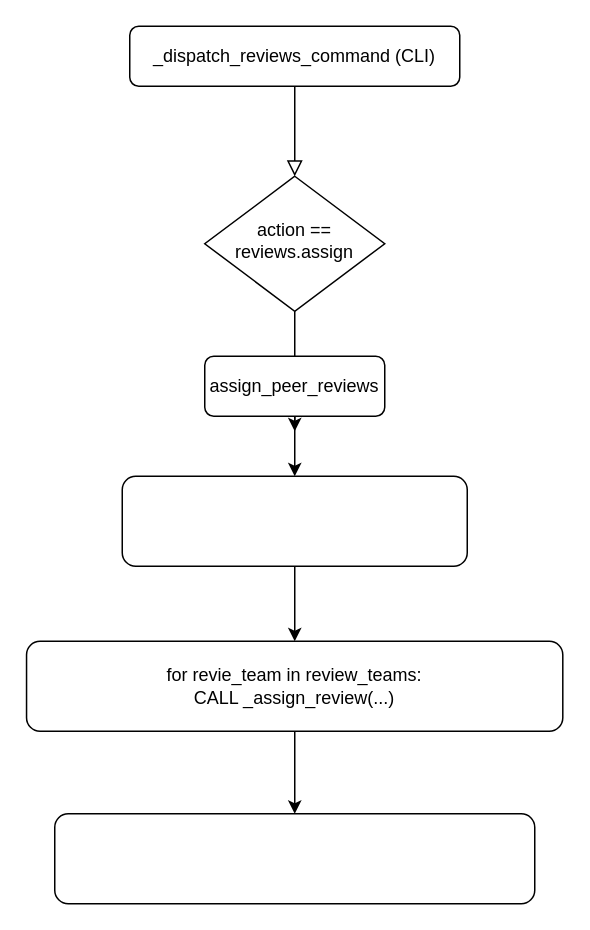
Image size: 590x930. Some labels were removed from this diagram. Here are the shapes that lost their labels. From the top down, the centre of each, then its label:
At pixel 294 520: "for review_team_with_repo in review_teams_with_repos: CALL _assign_review".
At pixel 294 858: "for member in review_team.members: api.create_issue(...) (with one assignee)".
